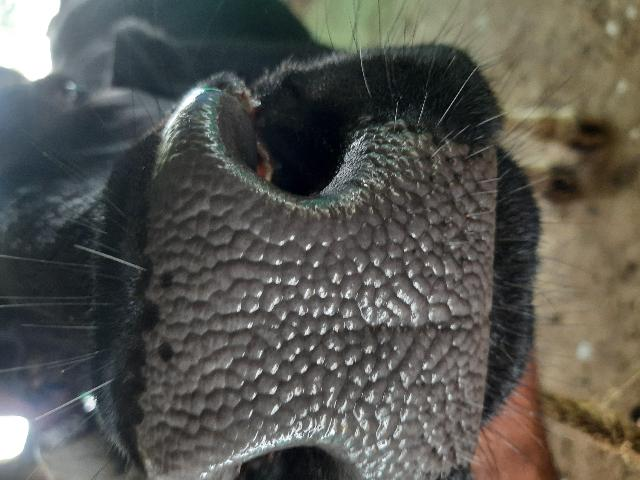Muzzle: (153, 181, 483, 442)
